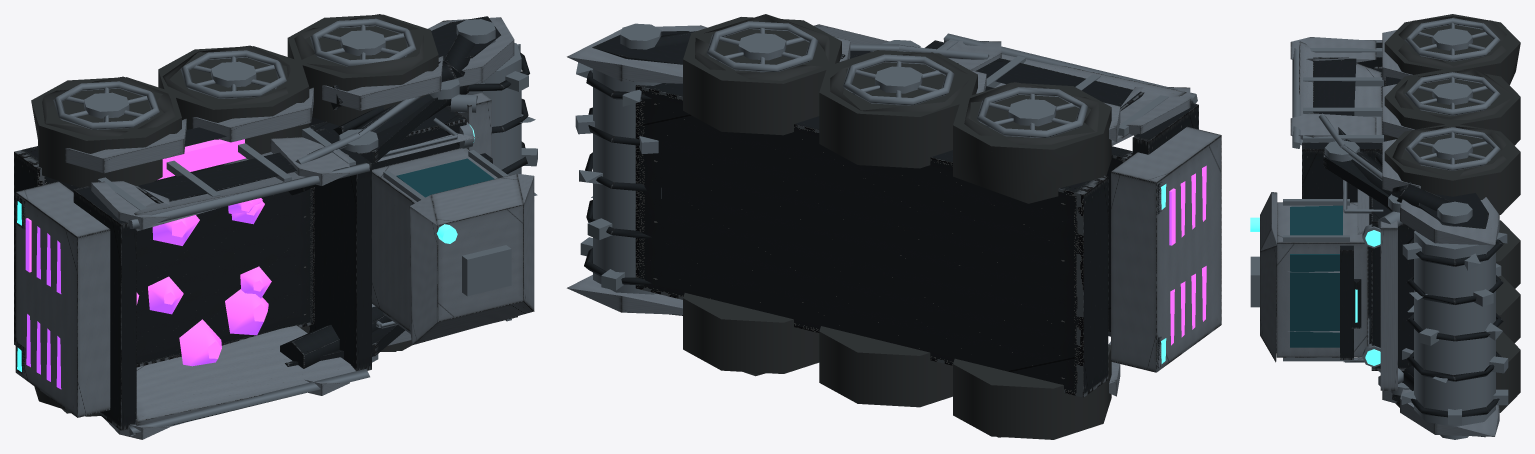
Rendered from harvester-low.glb.
The picture shows the model from 3 angles, left to right: view 1: azimuth 30°, elevation 25°; view 2: azimuth 150°, elevation 25°; view 3: azimuth 270°, elevation 25°; orthographic projection. The views are drawn at different scales.
Visible parts, largest first — view 1: harvester-root.001 / Brushed pale alloy.001, harvester-root.001 / Ceramic graphite.001, harvester-root.001 / Titanium edges.001, harvester-root.001 / Violet processing.001, Wheel 2 1.001 / Tire rubber.001, Wheel 0 1.001 / Tire rubber.001, Wheel 1 1.001 / Tire rubber.001, Mineral intake roller.001 / Titanium edges.001, Wheel 2 1.001 / Titanium edges.001, Wheel 1 1.001 / Titanium edges.001, Wheel 0 1.001 / Titanium edges.001, harvester-root.001 / Cyan glazing.001 (+2 smaller); view 2: harvester-root.001 / Ceramic graphite.001, harvester-root.001 / Brushed pale alloy.001, Wheel 2 1.001 / Tire rubber.001, Wheel 0 1.001 / Tire rubber.001, Wheel 1 1.001 / Tire rubber.001, Mineral intake roller.001 / Titanium edges.001, Wheel 2 -1.001 / Tire rubber.001, Wheel 0 -1.001 / Tire rubber.001, Wheel 1 -1.001 / Tire rubber.001, harvester-root.001 / Titanium edges.001, Wheel 0 1.001 / Titanium edges.001, Wheel 1 1.001 / Titanium edges.001 (+3 smaller); view 3: harvester-root.001 / Brushed pale alloy.001, harvester-root.001 / Ceramic graphite.001, Mineral intake roller.001 / Titanium edges.001, harvester-root.001 / Titanium edges.001, Wheel 0 1.001 / Tire rubber.001, harvester-root.001 / Cyan glazing.001, Wheel 1 1.001 / Tire rubber.001, Wheel 2 1.001 / Tire rubber.001, Mineral intake roller.001 / Ceramic graphite.001, Wheel 0 1.001 / Titanium edges.001, Wheel 1 1.001 / Titanium edges.001, Wheel 2 1.001 / Titanium edges.001 (+4 smaller).
Boxes of the visible parts, bbox=[...] form: harvester-root.001 / Brushed pale alloy.001: bbox=[15, 17, 534, 439]; harvester-root.001 / Ceramic graphite.001: bbox=[14, 16, 500, 430]; harvester-root.001 / Titanium edges.001: bbox=[98, 19, 511, 435]; harvester-root.001 / Violet processing.001: bbox=[25, 139, 271, 389]; Wheel 2 1.001 / Tire rubber.001: bbox=[31, 76, 181, 187]; Wheel 0 1.001 / Tire rubber.001: bbox=[287, 14, 438, 125]; Wheel 1 1.001 / Tire rubber.001: bbox=[158, 45, 309, 154]; Mineral intake roller.001 / Titanium edges.001: bbox=[449, 43, 537, 195]; Wheel 2 1.001 / Titanium edges.001: bbox=[53, 81, 159, 129]; Wheel 1 1.001 / Titanium edges.001: bbox=[180, 50, 286, 98]; Wheel 0 1.001 / Titanium edges.001: bbox=[310, 18, 416, 66]; harvester-root.001 / Cyan glazing.001: bbox=[396, 158, 494, 197]; harvester-root.001 / Ceramic graphite.001: bbox=[592, 31, 1198, 397]; harvester-root.001 / Brushed pale alloy.001: bbox=[567, 24, 1221, 396]; Wheel 2 1.001 / Tire rubber.001: bbox=[953, 82, 1111, 203]; Wheel 0 1.001 / Tire rubber.001: bbox=[683, 14, 841, 135]; Wheel 1 1.001 / Tire rubber.001: bbox=[819, 50, 977, 168]; Mineral intake roller.001 / Titanium edges.001: bbox=[575, 62, 661, 294]; Wheel 2 -1.001 / Tire rubber.001: bbox=[953, 344, 1111, 439]; Wheel 0 -1.001 / Tire rubber.001: bbox=[683, 293, 819, 376]; Wheel 1 -1.001 / Tire rubber.001: bbox=[819, 326, 952, 407]; harvester-root.001 / Titanium edges.001: bbox=[620, 23, 1197, 136]; Wheel 0 1.001 / Titanium edges.001: bbox=[706, 21, 818, 72]; Wheel 1 1.001 / Titanium edges.001: bbox=[843, 54, 954, 105]; harvester-root.001 / Brushed pale alloy.001: bbox=[1260, 30, 1499, 436]; harvester-root.001 / Ceramic graphite.001: bbox=[1302, 42, 1488, 437]; Mineral intake roller.001 / Titanium edges.001: bbox=[1401, 231, 1508, 426]; harvester-root.001 / Titanium edges.001: bbox=[1250, 48, 1472, 439]; Wheel 0 1.001 / Tire rubber.001: bbox=[1384, 123, 1520, 214]; harvester-root.001 / Cyan glazing.001: bbox=[1290, 205, 1342, 347]; Wheel 1 1.001 / Tire rubber.001: bbox=[1384, 68, 1520, 145]; Wheel 2 1.001 / Tire rubber.001: bbox=[1384, 14, 1520, 85]; Mineral intake roller.001 / Ceramic graphite.001: bbox=[1406, 237, 1503, 417]; Wheel 0 1.001 / Titanium edges.001: bbox=[1405, 127, 1500, 170]; Wheel 1 1.001 / Titanium edges.001: bbox=[1405, 72, 1500, 115]; Wheel 2 1.001 / Titanium edges.001: bbox=[1405, 18, 1500, 61].
Bounding box in the file's own units: 1.52 × 0.793 × 0.77.
7 materials, 2 textured.
